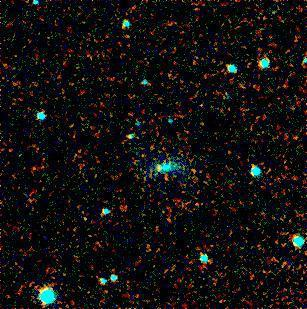star: (142, 150, 172, 180)
